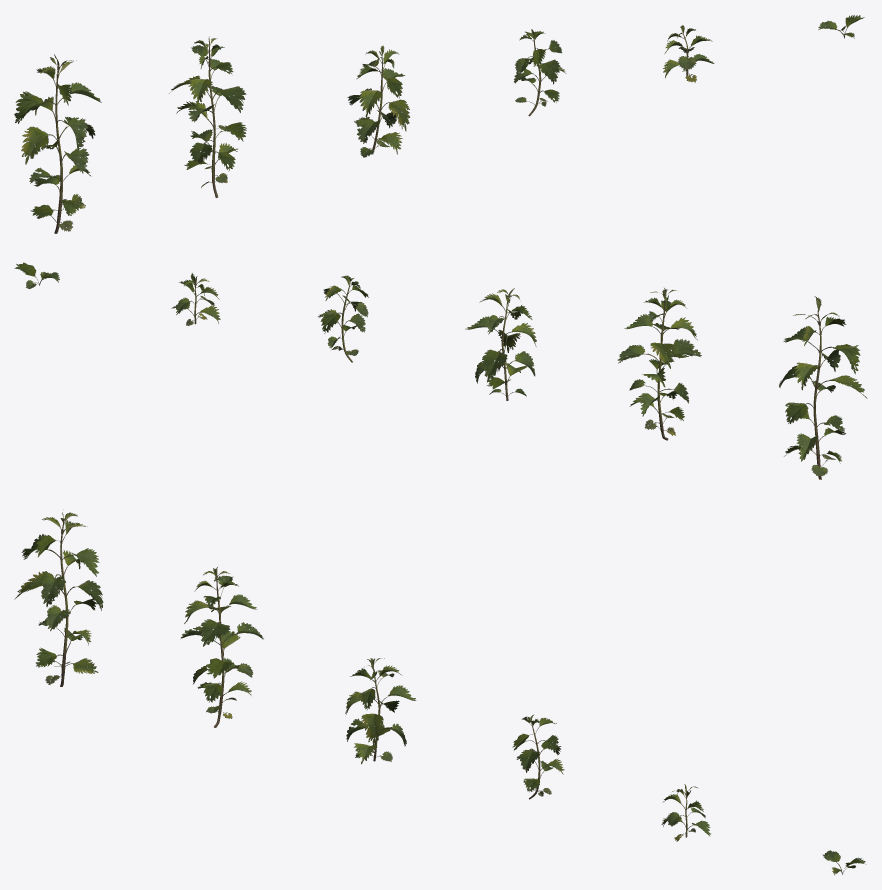
The model's file is nettle_plant.glb.
3 views of the same model, one above another, from view 1: azimuth 30°, elevation 25°; view 2: azimuth 150°, elevation 25°; view 3: azimuth 330°, elevation 25° (orthographic).
Parts seen in each view (by area): view 1: nettle_plant_tall_a_mesh, nettle_plant_tall_b_mesh, nettle_plant_medium_a_mesh, nettle_plant_medium_b_mesh, nettle_plant_small_a_mesh; view 2: nettle_plant_tall_a_mesh, nettle_plant_tall_b_mesh, nettle_plant_medium_a_mesh, nettle_plant_medium_b_mesh, nettle_plant_small_a_mesh; view 3: nettle_plant_tall_a_mesh, nettle_plant_tall_b_mesh, nettle_plant_medium_a_mesh, nettle_plant_medium_b_mesh, nettle_plant_small_a_mesh.
Part boxes in pixels (left/top/right/bottom): nettle_plant_tall_a_mesh: left=14, top=54, right=101, bottom=233; nettle_plant_tall_b_mesh: left=169, top=36, right=246, bottom=197; nettle_plant_medium_a_mesh: left=347, top=45, right=409, bottom=157; nettle_plant_medium_b_mesh: left=514, top=29, right=566, bottom=116; nettle_plant_small_a_mesh: left=663, top=25, right=714, bottom=82; nettle_plant_tall_a_mesh: left=779, top=296, right=867, bottom=479; nettle_plant_tall_b_mesh: left=617, top=288, right=701, bottom=440; nettle_plant_medium_a_mesh: left=465, top=288, right=536, bottom=400; nettle_plant_medium_b_mesh: left=318, top=275, right=368, bottom=362; nettle_plant_small_a_mesh: left=171, top=273, right=220, bottom=325; nettle_plant_tall_a_mesh: left=14, top=509, right=103, bottom=686; nettle_plant_tall_b_mesh: left=181, top=567, right=263, bottom=727; nettle_plant_medium_a_mesh: left=345, top=658, right=416, bottom=764; nettle_plant_medium_b_mesh: left=512, top=714, right=564, bottom=799; nettle_plant_small_a_mesh: left=661, top=784, right=710, bottom=841.
Size of the model in its own units: 1.08 by 0.2184 by 0.0947.
1 material, 1 textured.
